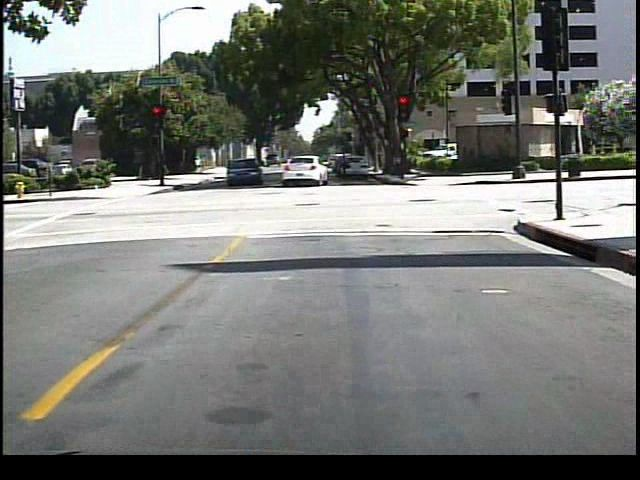person: (334, 146, 353, 185)
